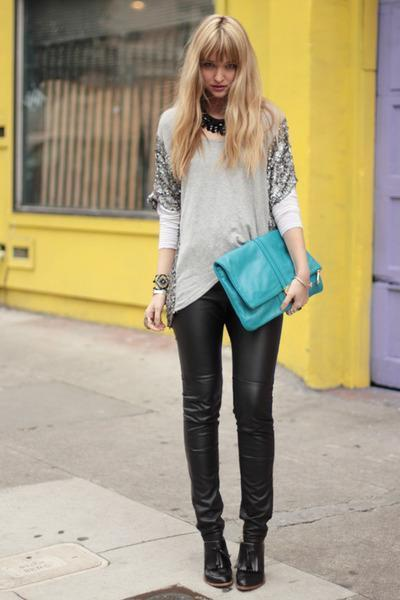long sleeve shirt: (148, 98, 298, 308)
trousers: (172, 264, 287, 550)
